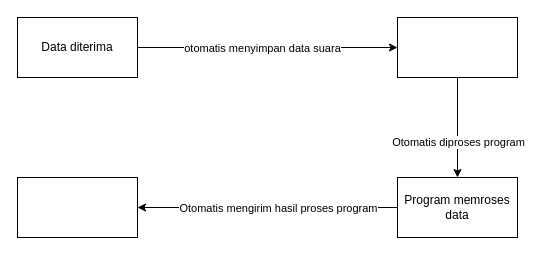
Some shapes in this 542 by 255 pixel diagram are drawn without their labels. The centre of each missing label's shape, as x and y in pixels:
"Mengirim kembali hasil proses data" goes at pixel 77 207.
"Menyimpan data suara" goes at pixel 457 47.
